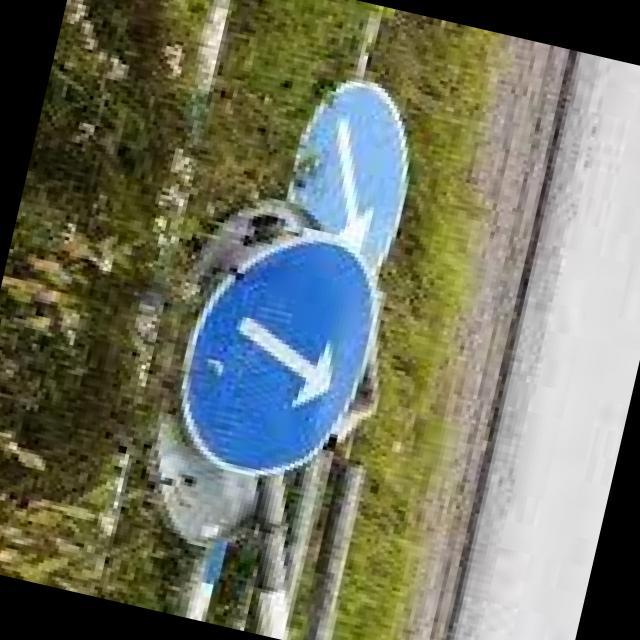obstructed_road_sign: (287, 80, 408, 275)
road_sign: (181, 236, 380, 476)
